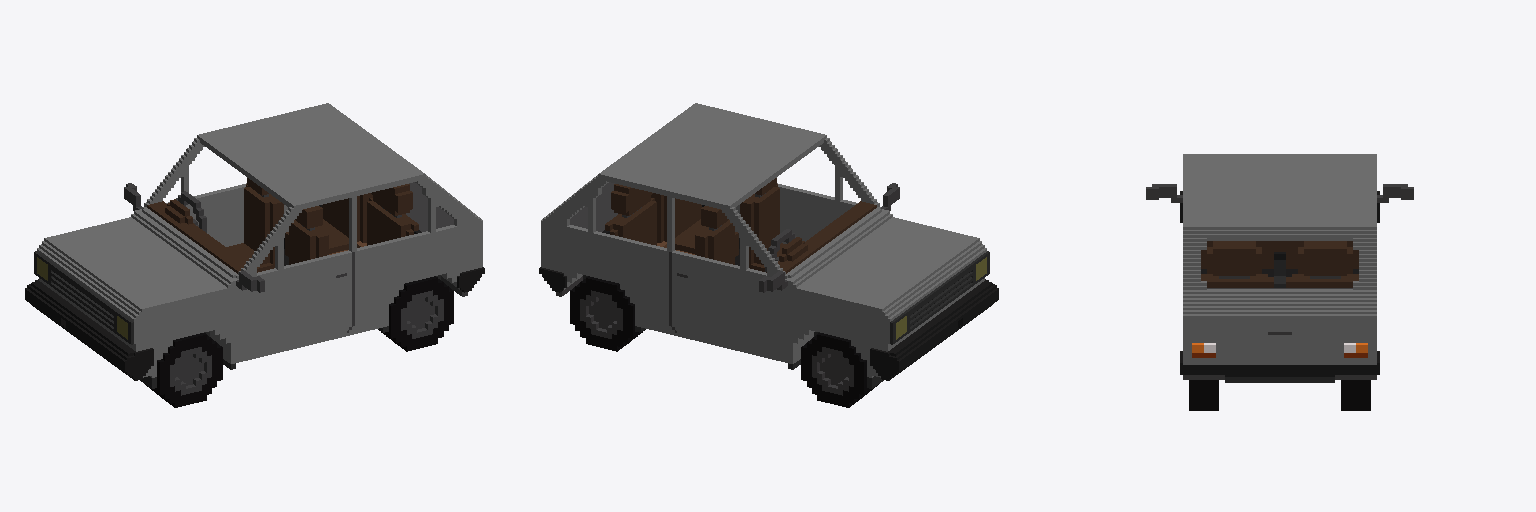
3 views of the same model, side by side, from view 1: azimuth 30°, elevation 25°; view 2: azimuth 150°, elevation 25°; view 3: azimuth 270°, elevation 25° (orthographic).
Parts seen in each view (by area): view 1: Model; view 2: Model; view 3: Model.
Boxes of the visible parts, x1=… form: Model: x1=25, y1=103, x2=484, y2=407; Model: x1=539, y1=103, x2=998, y2=407; Model: x1=1146, y1=154, x2=1413, y2=410.
Size of the model in its own units: 31.77 by 14.73 by 20.26.
1 materials, 1 textured.